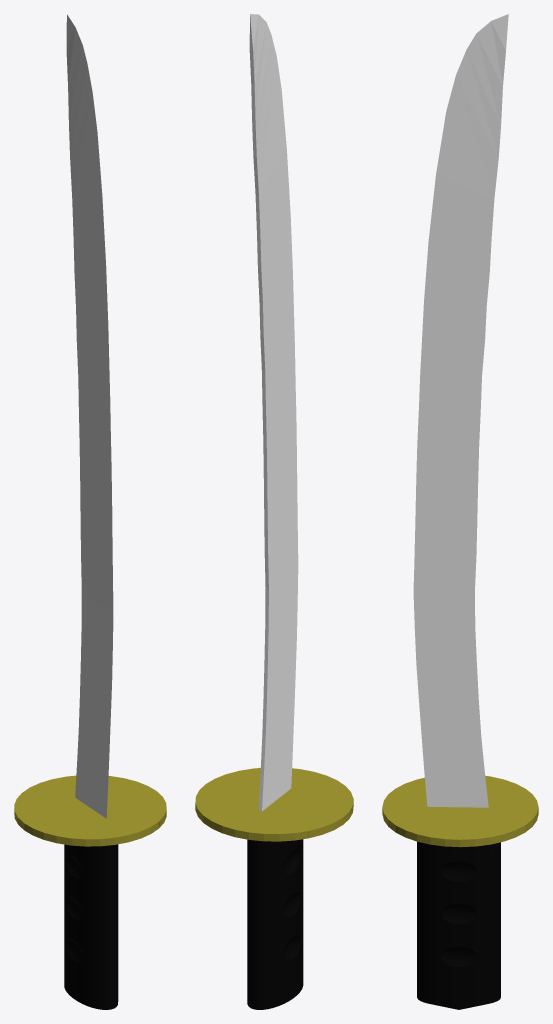
File: weapon.obj
3 views of the same model, side by side, from view 1: azimuth 30°, elevation 25°; view 2: azimuth 150°, elevation 25°; view 3: azimuth 270°, elevation 25° (orthographic). The views are drawn at different scales.
Parts seen in each view (by area): view 1: 刀; view 2: 刀; view 3: 刀.
Boxes of the visible parts, bbox=[...] form: 刀: bbox=[14, 14, 166, 1009]; 刀: bbox=[195, 14, 353, 1009]; 刀: bbox=[382, 14, 538, 1009].
Bounding box in the file's own units: 0.6589 × 4.64 × 0.6589.
Materials: 1 (1 with a texture image).
